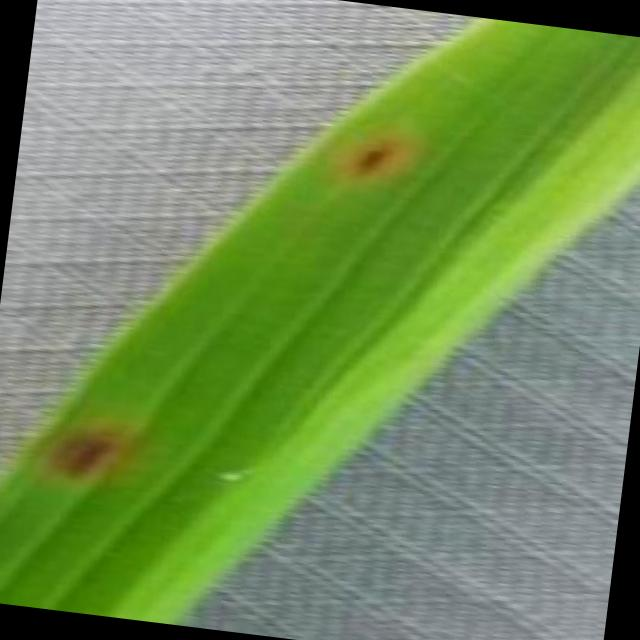Rice_Brownspot: (29, 399, 134, 496), (330, 115, 413, 193)
